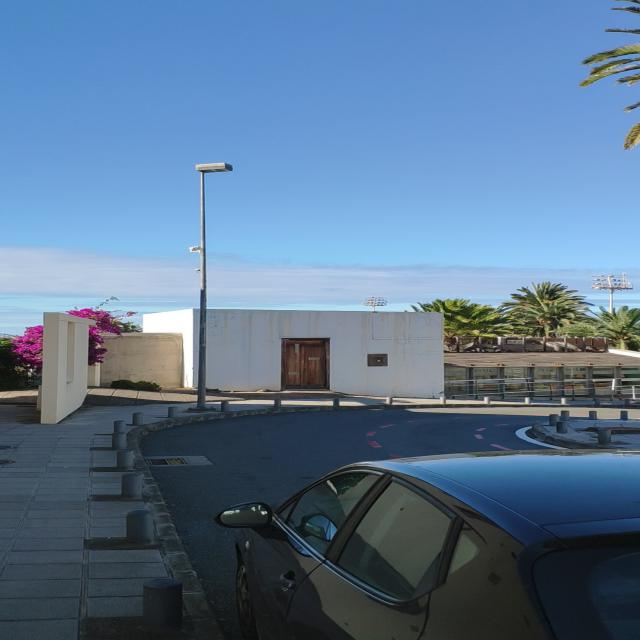Palm-Trees: (506, 282, 582, 338)
